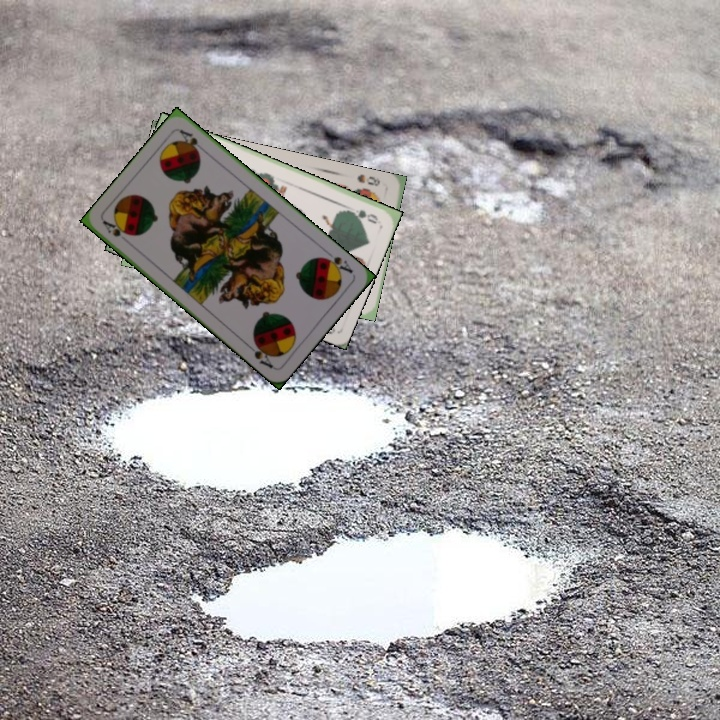GO: (342, 206, 381, 226)
S8: (353, 170, 383, 189)
SA: (317, 252, 356, 277), (99, 216, 132, 239)
